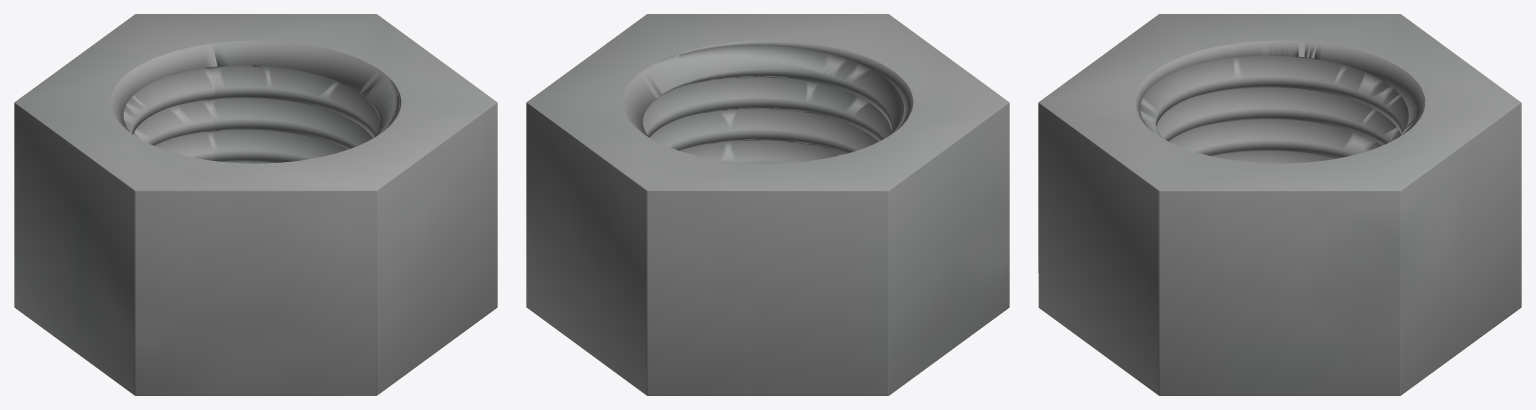
Rendered from factory_nut_m16_loose.glb.
The picture shows the model from 3 angles, left to right: view 1: azimuth 30°, elevation 25°; view 2: azimuth 150°, elevation 25°; view 3: azimuth 270°, elevation 25°; orthographic projection.
Visible parts, largest first — view 1: part0; view 2: part0; view 3: part0.
Boxes of the visible parts, left/top/right/bottom form: part0: left=14, top=14, right=497, bottom=395; part0: left=526, top=14, right=1009, bottom=395; part0: left=1038, top=14, right=1521, bottom=395.
Size of the model in its own units: 0.024 by 0.013 by 0.0277.
Materials: 1 (1 with a texture image).
